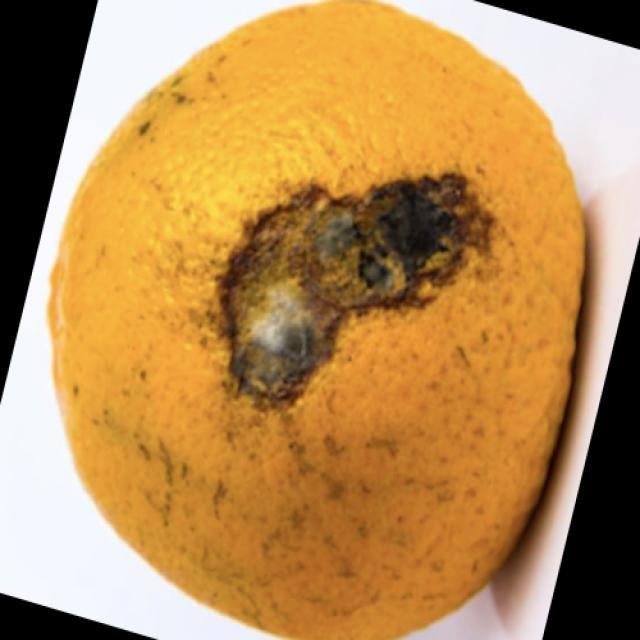sedikit-busuk: (49, 1, 582, 639), (221, 172, 492, 405)
